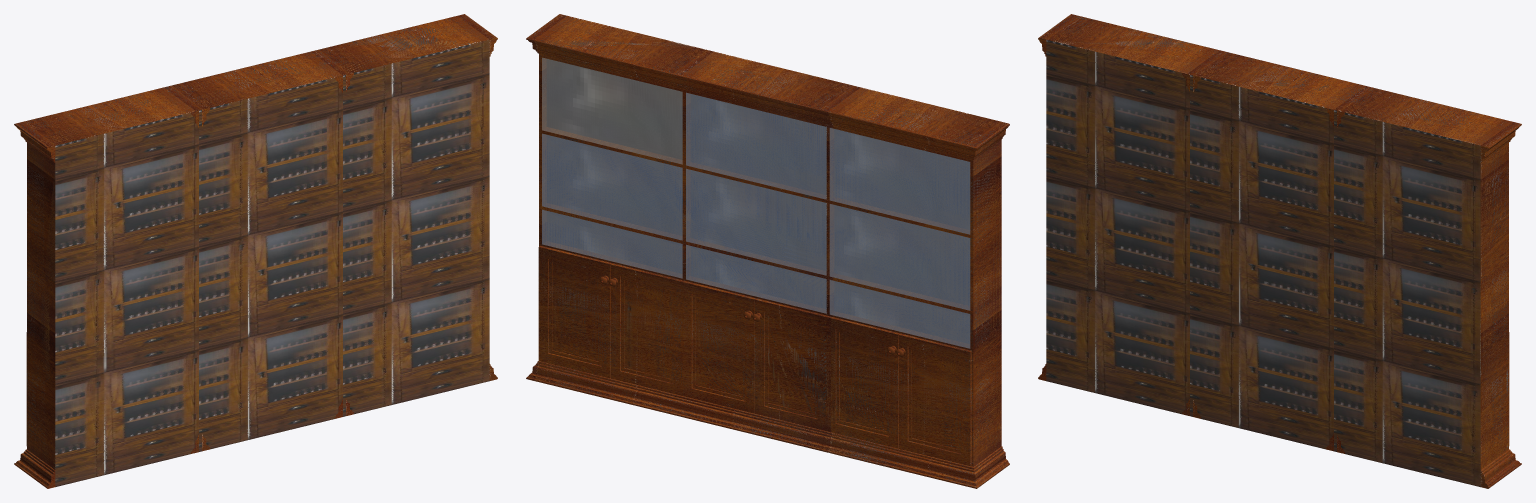
3 views of the same model, side by side, from view 1: azimuth 30°, elevation 25°; view 2: azimuth 150°, elevation 25°; view 3: azimuth 330°, elevation 25° (orthographic).
Parts seen in each view (by area): view 1: mesh103_mesh103-geometry; view 2: mesh103_mesh103-geometry; view 3: mesh103_mesh103-geometry.
Part boxes in pixels (x1,y1,x2,y2): mesh103_mesh103-geometry: (14, 14, 497, 488); mesh103_mesh103-geometry: (526, 14, 1009, 488); mesh103_mesh103-geometry: (1038, 14, 1521, 488).
Size of the model in its own units: 0.8056 by 0.5831 by 0.1043.
